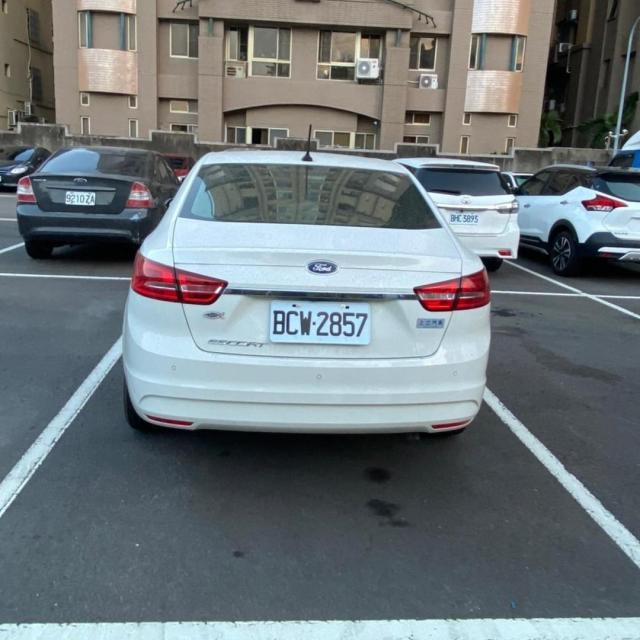W: (265, 292, 373, 349), (445, 209, 481, 228), (64, 188, 96, 206)
